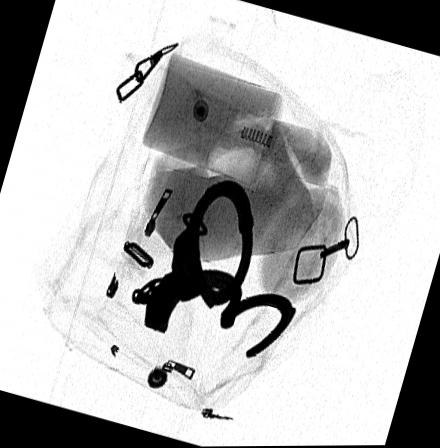HandCuffs: (133, 180, 296, 357)
